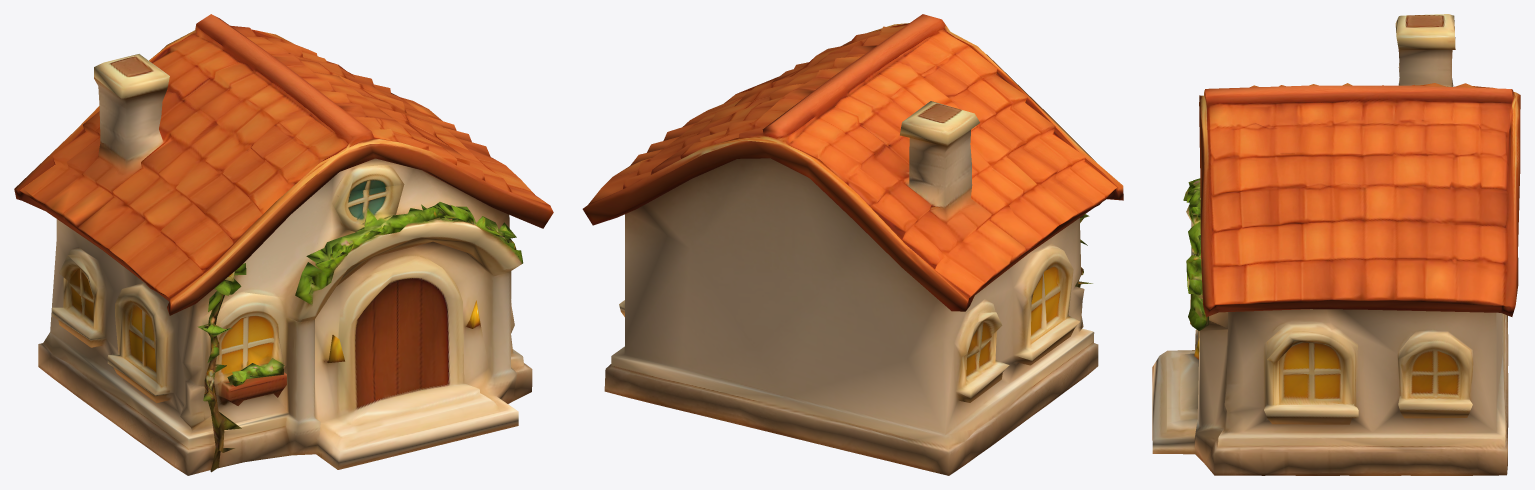
The model's file is cottage-clay-annex.glb.
The picture shows the model from 3 angles, left to right: view 1: azimuth 30°, elevation 25°; view 2: azimuth 150°, elevation 25°; view 3: azimuth 270°, elevation 25°; orthographic projection.
Parts seen in each view (by area): view 1: cottage-clay-annex; view 2: cottage-clay-annex; view 3: cottage-clay-annex.
Boxes of the visible parts, x1=… form: cottage-clay-annex: x1=14, y1=14, x2=553, y2=475; cottage-clay-annex: x1=582, y1=14, x2=1123, y2=475; cottage-clay-annex: x1=1152, y1=14, x2=1520, y2=475.
Size of the model in its own units: 6.15 by 4.85 by 5.15.
1 material, 1 textured.
